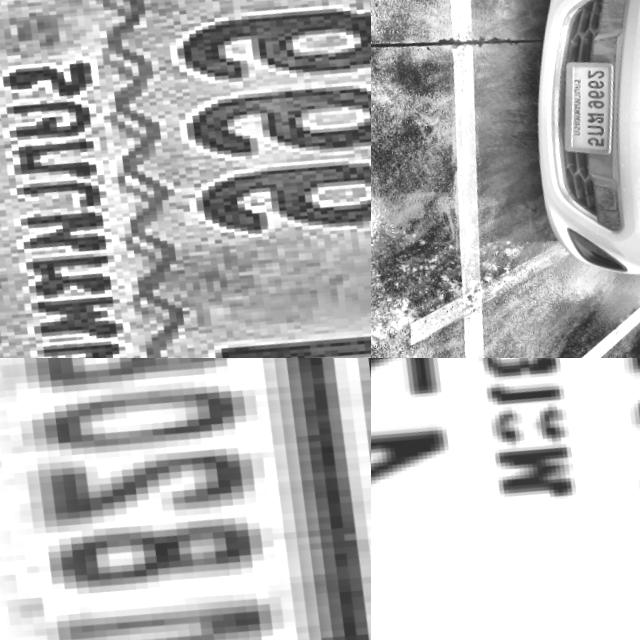license-plate: (0, 0, 371, 358), (0, 358, 371, 640), (371, 358, 640, 640), (550, 46, 636, 159)
